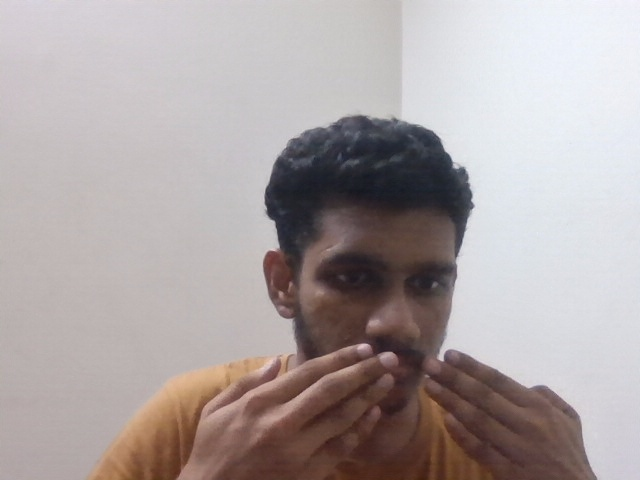thanks: (172, 334, 622, 476)
